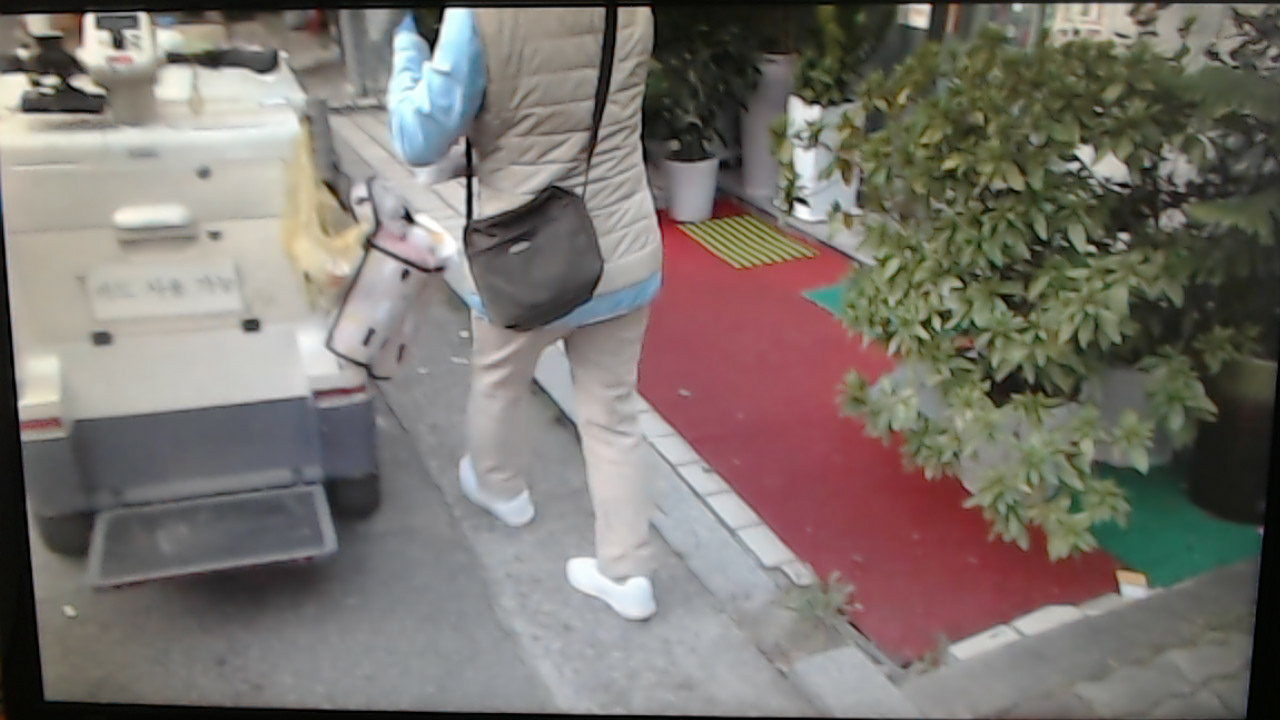Yakurut: (332, 9, 770, 653)
